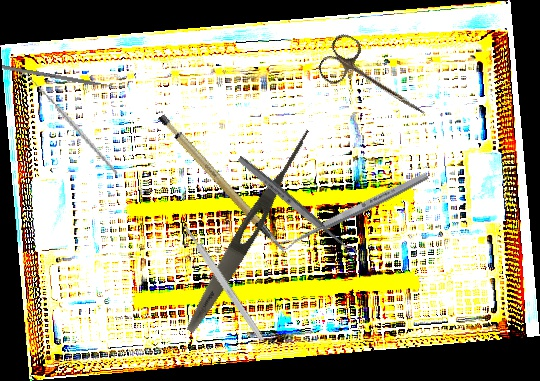Dressing Forceps: (181, 124, 316, 337)
Hook Surgical: (18, 58, 119, 190)
Iris Scissors: (314, 30, 439, 133)
Pusher: (1, 65, 127, 91)
Scalpel Handle: (156, 100, 286, 269), (182, 223, 266, 343)
Surgical Spoon: (235, 154, 359, 259), (279, 170, 430, 252)
